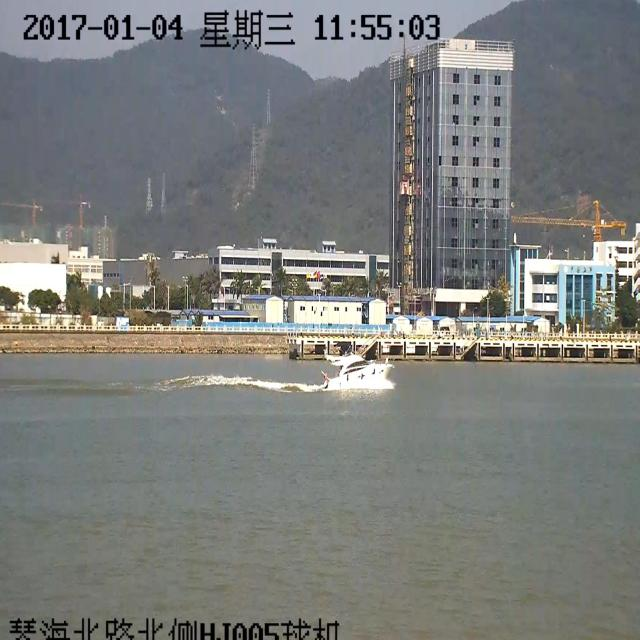houseboat: (328, 334, 393, 413)
